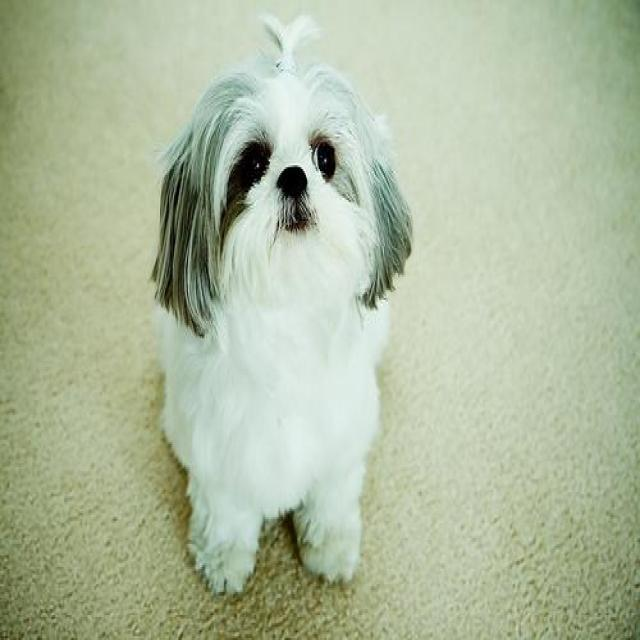shih_tzu: (152, 16, 416, 606)
